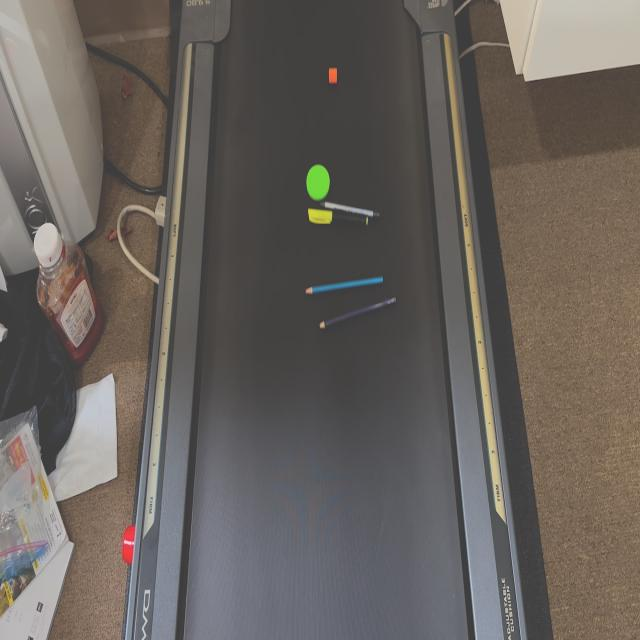Recycle: (306, 162, 330, 202), (328, 68, 336, 84)
Trash: (318, 296, 398, 328), (306, 276, 384, 294), (324, 200, 382, 222), (307, 210, 370, 228)
